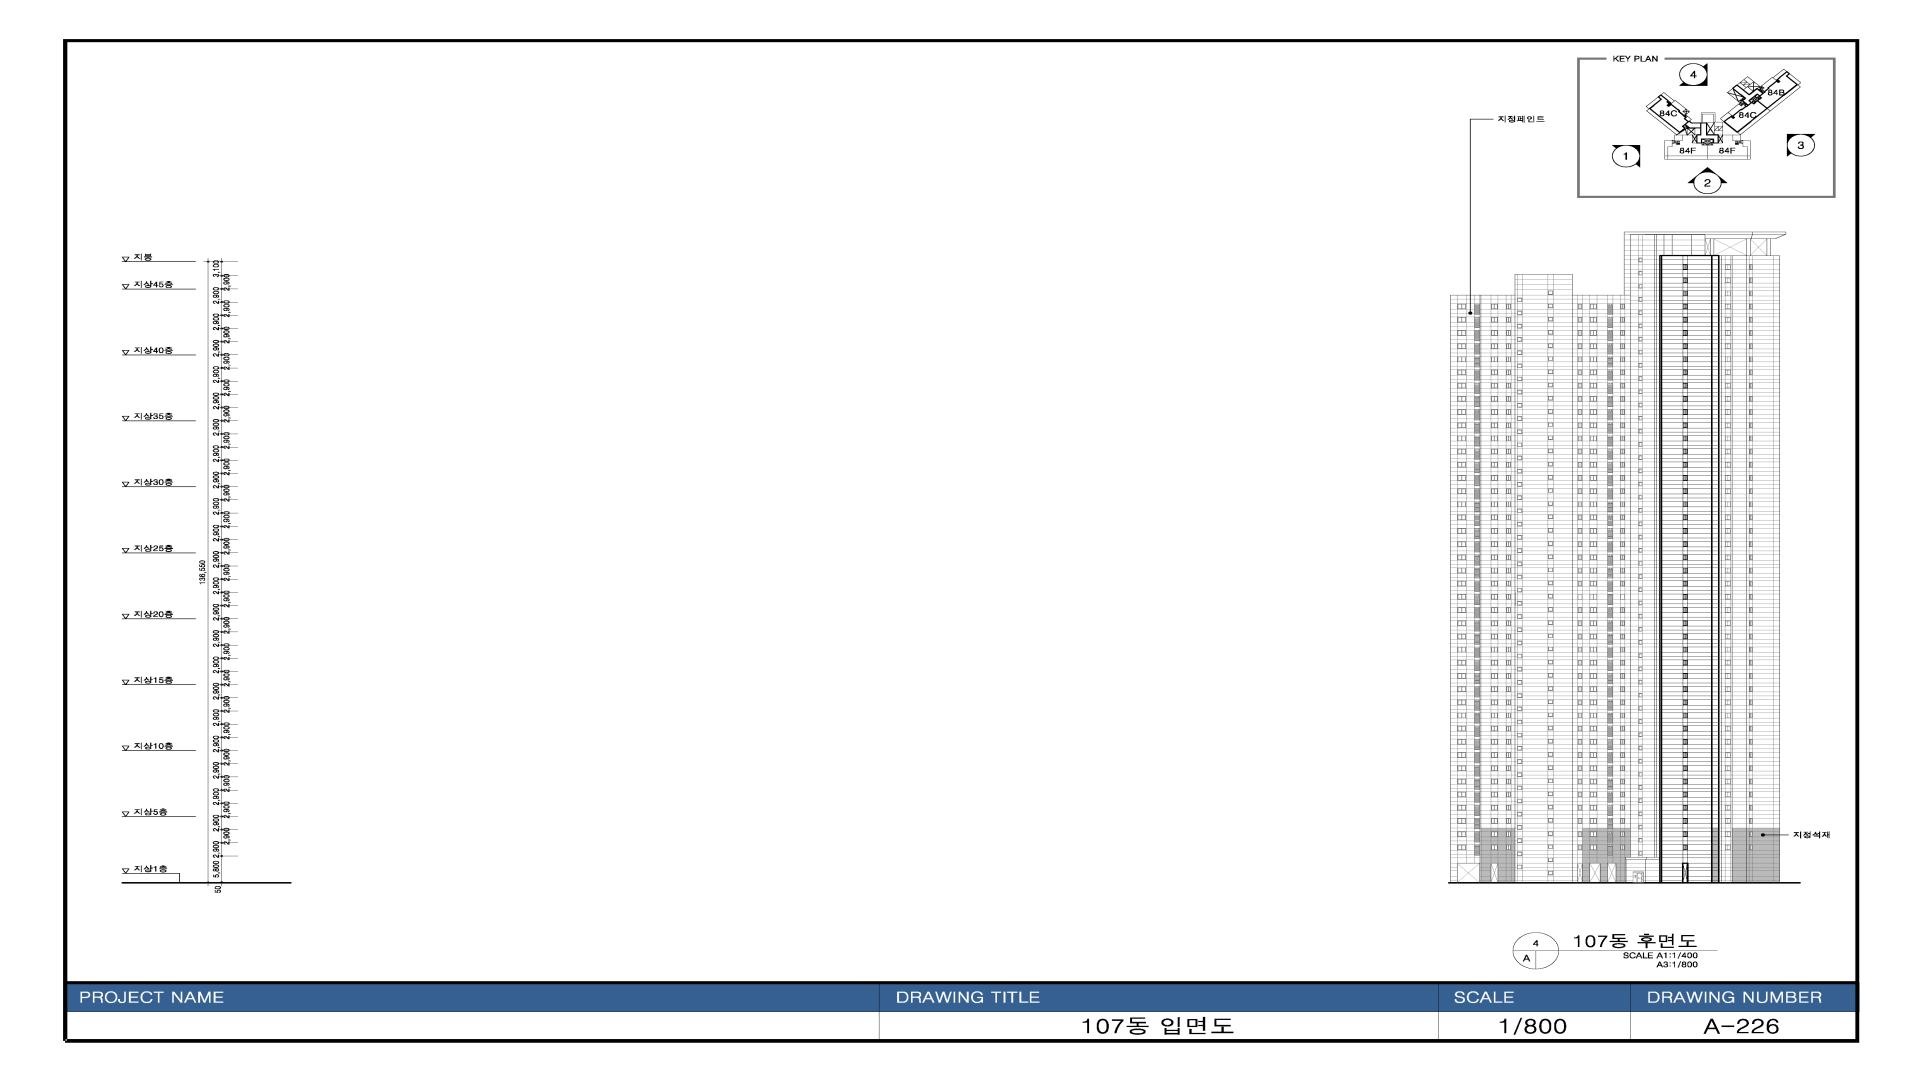background: (0, 0, 1920, 1080)
door: (1633, 872, 1643, 882)
wall: (1451, 232, 1787, 884)
window: (1607, 303, 1613, 315), (1607, 316, 1613, 328), (1607, 330, 1613, 342), (1607, 343, 1613, 355), (1607, 356, 1613, 368), (1607, 369, 1613, 381), (1607, 382, 1613, 394), (1607, 396, 1613, 407), (1607, 409, 1613, 421), (1607, 422, 1613, 434), (1607, 435, 1613, 447), (1607, 462, 1613, 473), (1607, 475, 1613, 487), (1607, 488, 1613, 500), (1607, 514, 1613, 526), (1607, 527, 1613, 539), (1607, 541, 1613, 553), (1607, 580, 1613, 592), (1607, 593, 1613, 605), (1607, 607, 1613, 618), (1607, 620, 1613, 632), (1607, 659, 1613, 671), (1607, 673, 1613, 684), (1607, 686, 1613, 698), (1607, 699, 1613, 711), (1607, 712, 1613, 724), (1607, 725, 1613, 737), (1607, 738, 1613, 750), (1607, 752, 1613, 764), (1607, 765, 1613, 777), (1607, 778, 1613, 790), (1607, 791, 1613, 803), (1607, 804, 1613, 816), (1607, 818, 1613, 829), (1607, 831, 1613, 843), (1474, 303, 1480, 315), (1474, 316, 1480, 328), (1474, 330, 1480, 342), (1474, 343, 1480, 355), (1474, 356, 1480, 368), (1474, 369, 1480, 381), (1474, 382, 1480, 394), (1474, 396, 1480, 407), (1474, 409, 1480, 421), (1474, 422, 1480, 434), (1474, 435, 1480, 447), (1474, 448, 1480, 460), (1474, 462, 1480, 473), (1474, 475, 1480, 487), (1474, 488, 1480, 500), (1474, 501, 1480, 513), (1474, 514, 1480, 526), (1474, 527, 1480, 539), (1474, 580, 1480, 592), (1474, 593, 1480, 605), (1474, 607, 1480, 618), (1474, 620, 1480, 632), (1474, 659, 1480, 671), (1474, 673, 1480, 684), (1474, 686, 1480, 698), (1474, 725, 1480, 737), (1474, 738, 1480, 750), (1474, 752, 1480, 764), (1474, 765, 1480, 777), (1474, 778, 1480, 790), (1474, 791, 1480, 803), (1474, 804, 1480, 816), (1474, 818, 1480, 829), (1474, 831, 1480, 843), (1474, 844, 1480, 856), (1607, 448, 1613, 460), (1457, 303, 1466, 310), (1457, 316, 1466, 323), (1457, 330, 1466, 336), (1457, 343, 1466, 349), (1457, 356, 1466, 363), (1457, 369, 1466, 376), (1457, 382, 1466, 389), (1457, 396, 1466, 402), (1457, 409, 1466, 415), (1457, 422, 1466, 429), (1457, 435, 1466, 442), (1457, 448, 1466, 455), (1457, 462, 1466, 468), (1457, 475, 1466, 481), (1457, 488, 1466, 495), (1457, 501, 1466, 508), (1457, 541, 1466, 547), (1457, 580, 1466, 587), (1457, 593, 1466, 600), (1457, 607, 1466, 613), (1457, 659, 1466, 666), (1457, 673, 1466, 679), (1457, 686, 1466, 692), (1457, 725, 1466, 732), (1457, 738, 1466, 745), (1457, 752, 1466, 758), (1457, 765, 1466, 771), (1457, 791, 1466, 798), (1457, 804, 1466, 811), (1457, 818, 1466, 824), (1457, 831, 1466, 837), (1607, 501, 1613, 512), (1607, 555, 1613, 566), (1607, 568, 1613, 579), (1607, 634, 1613, 645), (1607, 647, 1613, 658), (1607, 845, 1613, 856), (1474, 542, 1480, 553), (1474, 555, 1480, 566), (1474, 568, 1480, 579), (1474, 634, 1480, 645), (1474, 647, 1480, 658), (1474, 700, 1480, 711), (1474, 713, 1480, 724), (1490, 303, 1498, 310), (1490, 330, 1498, 336), (1490, 343, 1498, 349), (1490, 356, 1498, 363), (1490, 369, 1498, 376), (1490, 396, 1498, 402), (1490, 409, 1498, 415), (1490, 435, 1498, 442), (1490, 448, 1498, 455), (1490, 462, 1498, 468), (1490, 475, 1498, 481), (1490, 527, 1498, 534), (1490, 580, 1498, 587), (1490, 686, 1498, 692), (1490, 725, 1498, 732), (1490, 791, 1498, 798), (1490, 818, 1498, 824), (1589, 303, 1597, 310), (1589, 316, 1597, 323), (1589, 330, 1597, 336), (1589, 343, 1597, 349), (1589, 356, 1597, 363), (1589, 369, 1597, 376), (1589, 382, 1597, 389), (1589, 396, 1597, 402), (1589, 409, 1597, 415), (1589, 422, 1597, 429), (1589, 435, 1597, 442), (1589, 448, 1597, 455), (1589, 462, 1597, 468), (1589, 475, 1597, 481), (1589, 488, 1597, 495), (1589, 501, 1597, 508), (1589, 514, 1597, 521), (1589, 527, 1597, 534), (1589, 541, 1597, 547), (1589, 580, 1597, 587), (1589, 593, 1597, 600), (1589, 607, 1597, 613), (1589, 620, 1597, 626), (1589, 659, 1597, 666), (1589, 673, 1597, 679), (1589, 686, 1597, 692), (1589, 699, 1597, 705), (1589, 725, 1597, 732), (1589, 738, 1597, 745), (1589, 752, 1597, 758), (1589, 765, 1597, 771), (1589, 778, 1597, 785), (1589, 791, 1597, 798), (1589, 804, 1597, 811), (1589, 818, 1597, 824), (1589, 844, 1597, 851), (1457, 514, 1466, 520), (1457, 529, 1466, 534), (1457, 555, 1466, 560), (1457, 568, 1466, 574), (1457, 621, 1466, 626), (1457, 634, 1466, 640), (1457, 647, 1466, 653), (1457, 700, 1466, 705), (1457, 713, 1466, 719), (1457, 779, 1466, 785), (1457, 845, 1466, 851), (1491, 316, 1498, 323), (1491, 382, 1498, 389), (1491, 422, 1498, 429), (1491, 488, 1498, 495), (1491, 501, 1498, 508), (1491, 514, 1498, 521), (1491, 593, 1498, 600), (1491, 607, 1498, 613), (1491, 620, 1498, 626), (1491, 659, 1498, 666), (1491, 673, 1498, 679), (1491, 738, 1498, 745), (1491, 752, 1498, 758), (1491, 804, 1498, 811), (1725, 356, 1731, 363), (1725, 659, 1731, 666), (1725, 752, 1731, 758), (1490, 634, 1498, 640), (1490, 647, 1498, 653), (1490, 700, 1498, 705), (1490, 713, 1498, 719), (1490, 779, 1498, 785), (1589, 555, 1597, 560), (1589, 568, 1597, 574), (1589, 634, 1597, 640), (1589, 647, 1597, 653), (1589, 713, 1597, 719), (1589, 832, 1597, 837), (1491, 542, 1498, 547), (1491, 555, 1498, 560), (1491, 568, 1498, 574), (1491, 766, 1498, 771), (1491, 832, 1498, 837), (1491, 845, 1498, 851), (1506, 303, 1511, 310), (1506, 316, 1511, 323), (1506, 330, 1511, 336), (1506, 343, 1511, 349), (1506, 356, 1511, 363), (1506, 369, 1511, 376), (1506, 382, 1511, 389), (1506, 396, 1511, 402), (1506, 409, 1511, 415), (1506, 422, 1511, 429), (1506, 435, 1511, 442), (1506, 448, 1511, 455), (1506, 462, 1511, 468), (1506, 475, 1511, 481), (1506, 488, 1511, 495), (1506, 501, 1511, 508), (1506, 514, 1511, 521), (1506, 580, 1511, 587), (1506, 593, 1511, 600), (1506, 659, 1511, 666), (1506, 725, 1511, 732), (1506, 738, 1511, 745), (1506, 791, 1511, 798), (1506, 804, 1511, 811), (1506, 818, 1511, 824), (1577, 303, 1582, 310), (1577, 316, 1582, 323), (1577, 330, 1582, 336), (1577, 343, 1582, 349), (1577, 356, 1582, 363), (1577, 369, 1582, 376), (1577, 382, 1582, 389), (1577, 396, 1582, 402), (1577, 409, 1582, 415), (1577, 422, 1582, 429), (1577, 435, 1582, 442), (1577, 448, 1582, 455), (1577, 462, 1582, 468), (1577, 475, 1582, 481), (1577, 488, 1582, 495), (1577, 501, 1582, 508), (1577, 527, 1582, 534), (1577, 580, 1582, 587), (1577, 593, 1582, 600), (1577, 607, 1582, 613), (1577, 620, 1582, 626), (1577, 659, 1582, 666), (1577, 673, 1582, 679), (1577, 686, 1582, 692), (1577, 725, 1582, 732), (1577, 738, 1582, 745), (1577, 752, 1582, 758), (1577, 791, 1582, 798), (1577, 804, 1582, 811), (1577, 818, 1582, 824), (1577, 831, 1582, 837), (1683, 264, 1688, 270), (1683, 277, 1688, 284), (1683, 290, 1688, 297), (1683, 303, 1688, 310), (1683, 316, 1688, 323), (1683, 330, 1688, 336), (1683, 343, 1688, 349), (1683, 356, 1688, 363), (1683, 369, 1688, 376), (1683, 382, 1688, 389), (1683, 396, 1688, 402), (1683, 409, 1688, 415), (1683, 422, 1688, 429), (1683, 435, 1688, 442), (1683, 448, 1688, 455), (1683, 462, 1688, 468), (1683, 475, 1688, 481), (1683, 488, 1688, 495), (1683, 501, 1688, 508), (1683, 514, 1688, 521), (1683, 527, 1688, 534), (1683, 541, 1688, 547), (1683, 580, 1688, 587), (1683, 593, 1688, 600), (1683, 607, 1688, 613), (1683, 659, 1688, 666), (1683, 673, 1688, 679), (1683, 686, 1688, 692), (1683, 699, 1688, 705), (1683, 725, 1688, 732), (1683, 738, 1688, 745), (1683, 752, 1688, 758), (1683, 765, 1688, 771), (1683, 778, 1688, 785), (1683, 791, 1688, 798), (1683, 804, 1688, 811), (1683, 818, 1688, 824), (1683, 831, 1688, 837), (1683, 844, 1688, 851), (1725, 264, 1730, 270), (1725, 277, 1730, 284), (1725, 290, 1730, 297), (1725, 303, 1730, 310), (1725, 316, 1730, 323), (1725, 330, 1730, 336), (1725, 343, 1730, 349), (1725, 369, 1730, 376), (1725, 382, 1730, 389), (1725, 396, 1730, 402), (1725, 409, 1730, 415), (1725, 422, 1730, 429), (1725, 435, 1730, 442), (1725, 448, 1730, 455), (1725, 462, 1730, 468), (1725, 475, 1730, 481), (1725, 488, 1730, 495), (1725, 501, 1730, 508), (1725, 514, 1730, 521), (1725, 541, 1730, 547), (1725, 568, 1731, 574), (1725, 580, 1730, 587), (1725, 593, 1730, 600), (1725, 608, 1731, 613), (1725, 620, 1730, 626), (1725, 673, 1730, 679), (1725, 725, 1730, 732), (1725, 738, 1730, 745), (1725, 765, 1730, 771), (1725, 778, 1730, 785), (1725, 791, 1730, 798), (1725, 804, 1730, 811), (1725, 818, 1730, 824), (1725, 831, 1730, 837), (1725, 844, 1730, 851), (1506, 529, 1511, 534), (1506, 542, 1511, 547), (1506, 555, 1511, 560), (1506, 568, 1511, 574), (1506, 608, 1511, 613), (1506, 621, 1511, 626), (1506, 634, 1511, 640), (1506, 647, 1511, 653), (1506, 674, 1511, 679), (1506, 687, 1511, 692), (1506, 700, 1511, 705), (1506, 713, 1511, 719), (1506, 753, 1511, 758), (1506, 766, 1511, 771), (1506, 779, 1511, 785), (1506, 832, 1511, 837), (1506, 845, 1511, 851), (1548, 290, 1553, 295), (1548, 303, 1553, 309), (1548, 316, 1553, 322), (1548, 330, 1553, 335), (1548, 343, 1553, 348), (1548, 356, 1553, 361), (1548, 369, 1553, 375), (1548, 382, 1553, 388), (1548, 396, 1553, 401), (1548, 409, 1553, 414), (1548, 422, 1553, 427), (1548, 435, 1553, 440), (1548, 448, 1553, 454), (1548, 462, 1553, 467), (1548, 475, 1553, 480), (1548, 488, 1553, 493), (1548, 501, 1553, 506), (1548, 514, 1553, 520), (1548, 580, 1553, 585), (1548, 725, 1553, 731), (1548, 738, 1553, 744), (1548, 752, 1553, 757), (1548, 791, 1553, 796), (1548, 804, 1553, 810), (1548, 818, 1553, 823), (1548, 831, 1553, 836), (1548, 844, 1553, 849), (1548, 870, 1553, 876), (1577, 514, 1582, 520), (1577, 542, 1582, 547), (1577, 555, 1582, 560), (1577, 568, 1582, 574), (1577, 634, 1582, 640), (1577, 647, 1582, 653), (1577, 700, 1582, 705), (1577, 713, 1582, 719), (1577, 766, 1582, 771), (1577, 779, 1582, 785), (1577, 845, 1582, 851), (1638, 349, 1643, 355), (1638, 363, 1643, 368), (1638, 376, 1643, 381), (1638, 402, 1643, 407), (1638, 415, 1643, 421), (1638, 442, 1643, 447), (1638, 455, 1643, 460), (1638, 481, 1643, 487), (1638, 495, 1643, 500), (1638, 732, 1643, 737), (1638, 811, 1643, 816), (1683, 555, 1688, 560), (1683, 568, 1688, 574), (1683, 621, 1688, 626), (1683, 634, 1688, 640), (1683, 647, 1688, 653), (1683, 713, 1688, 719), (1725, 529, 1730, 534), (1725, 555, 1730, 560), (1725, 634, 1730, 640), (1725, 647, 1730, 653), (1725, 687, 1730, 692), (1725, 700, 1730, 705), (1725, 713, 1730, 719), (1621, 303, 1625, 310), (1621, 316, 1625, 323), (1621, 330, 1625, 336), (1621, 343, 1625, 349), (1621, 356, 1625, 363), (1621, 369, 1625, 376), (1621, 382, 1625, 389), (1621, 396, 1625, 402), (1621, 409, 1625, 415), (1621, 422, 1625, 429), (1621, 435, 1625, 442), (1621, 448, 1625, 455), (1621, 462, 1625, 468), (1621, 475, 1625, 481), (1621, 488, 1625, 495), (1621, 501, 1625, 508), (1621, 514, 1625, 521), (1621, 527, 1625, 534), (1621, 541, 1625, 547), (1621, 580, 1625, 587), (1621, 593, 1625, 600), (1621, 607, 1625, 613), (1621, 620, 1625, 626), (1621, 633, 1625, 640), (1621, 659, 1625, 666), (1621, 673, 1625, 679), (1621, 686, 1625, 692), (1621, 699, 1625, 705), (1621, 725, 1625, 732), (1621, 738, 1625, 745), (1621, 752, 1625, 758), (1621, 765, 1625, 771), (1621, 778, 1625, 785), (1621, 791, 1625, 798), (1621, 804, 1625, 811), (1621, 818, 1625, 824), (1621, 831, 1625, 837), (1621, 844, 1625, 851), (1749, 264, 1753, 270), (1749, 277, 1753, 284), (1749, 290, 1753, 297), (1749, 316, 1753, 323), (1749, 330, 1753, 336), (1749, 343, 1753, 349), (1749, 356, 1753, 363), (1749, 369, 1753, 376), (1749, 382, 1753, 389), (1749, 396, 1753, 402), (1749, 409, 1753, 415), (1749, 422, 1753, 429), (1749, 435, 1753, 442), (1749, 448, 1753, 455), (1749, 462, 1753, 468), (1749, 475, 1753, 481), (1749, 488, 1753, 495), (1749, 527, 1753, 534), (1749, 541, 1753, 547), (1749, 580, 1753, 587), (1749, 593, 1753, 600), (1749, 607, 1753, 613), (1749, 659, 1753, 666), (1749, 673, 1753, 679), (1749, 725, 1753, 732), (1749, 738, 1753, 745), (1749, 752, 1753, 758), (1749, 765, 1753, 771), (1749, 791, 1753, 798), (1749, 804, 1753, 811), (1749, 818, 1753, 824), (1749, 831, 1753, 837), (1518, 298, 1523, 302), (1518, 311, 1523, 315), (1518, 324, 1523, 328), (1518, 338, 1523, 342), (1518, 351, 1523, 355), (1516, 364, 1522, 368), (1518, 377, 1523, 381), (1518, 390, 1523, 394), (1518, 404, 1523, 407), (1518, 417, 1523, 421), (1518, 430, 1523, 434), (1518, 443, 1523, 447), (1518, 456, 1523, 460), (1518, 469, 1523, 473), (1518, 483, 1523, 487), (1518, 496, 1523, 500), (1518, 509, 1523, 513), (1518, 522, 1523, 526), (1518, 535, 1523, 539), (1518, 549, 1523, 553), (1518, 562, 1523, 566), (1518, 575, 1523, 579), (1518, 588, 1523, 592), (1518, 601, 1523, 605), (1518, 615, 1523, 618), (1518, 628, 1523, 632), (1518, 641, 1523, 645), (1518, 654, 1523, 658), (1518, 667, 1523, 671), (1518, 680, 1523, 684), (1516, 694, 1522, 698), (1518, 707, 1523, 711), (1518, 720, 1523, 724), (1518, 733, 1523, 737), (1518, 746, 1523, 750), (1518, 760, 1523, 764), (1518, 773, 1523, 777), (1518, 786, 1523, 790), (1518, 799, 1523, 803), (1518, 812, 1523, 816), (1518, 825, 1523, 829), (1518, 839, 1523, 843), (1518, 852, 1523, 856), (1518, 865, 1523, 869), (1548, 529, 1553, 533), (1548, 542, 1553, 546), (1548, 555, 1553, 559), (1548, 568, 1553, 572), (1548, 595, 1553, 599), (1548, 608, 1553, 612), (1548, 621, 1553, 625), (1548, 634, 1553, 638), (1548, 647, 1553, 651), (1548, 661, 1553, 665), (1548, 674, 1553, 678), (1548, 687, 1553, 691), (1548, 700, 1553, 704), (1548, 713, 1553, 717), (1548, 766, 1553, 770), (1548, 779, 1553, 783), (1548, 858, 1553, 862), (1621, 555, 1625, 560), (1621, 568, 1625, 574), (1621, 647, 1625, 653), (1621, 713, 1625, 719), (1638, 270, 1642, 276), (1638, 297, 1642, 302), (1638, 310, 1642, 315), (1638, 323, 1642, 328), (1638, 336, 1642, 342), (1638, 389, 1642, 394), (1638, 429, 1642, 434), (1638, 468, 1642, 473), (1638, 508, 1642, 513), (1638, 535, 1643, 539), (1638, 549, 1643, 553), (1638, 562, 1643, 566), (1638, 574, 1642, 579), (1638, 587, 1642, 592), (1638, 640, 1642, 645), (1638, 653, 1642, 658), (1638, 666, 1642, 671), (1638, 680, 1643, 684), (1638, 707, 1643, 711), (1638, 719, 1642, 724), (1638, 746, 1643, 750), (1638, 760, 1643, 764), (1638, 773, 1643, 777), (1638, 785, 1642, 790), (1638, 798, 1642, 803), (1638, 825, 1643, 829), (1749, 303, 1753, 309), (1749, 501, 1753, 506), (1749, 514, 1753, 520), (1749, 555, 1753, 560), (1749, 568, 1753, 574), (1749, 621, 1753, 626), (1749, 634, 1753, 640), (1749, 647, 1753, 653), (1749, 687, 1753, 692), (1749, 700, 1753, 705), (1749, 713, 1753, 719), (1749, 779, 1753, 785), (1749, 845, 1753, 851), (1639, 258, 1643, 262), (1638, 285, 1642, 289), (1638, 522, 1642, 526), (1638, 601, 1642, 605), (1638, 615, 1642, 618), (1638, 628, 1642, 632), (1638, 694, 1642, 698), (1638, 839, 1642, 843), (1638, 852, 1642, 856)
